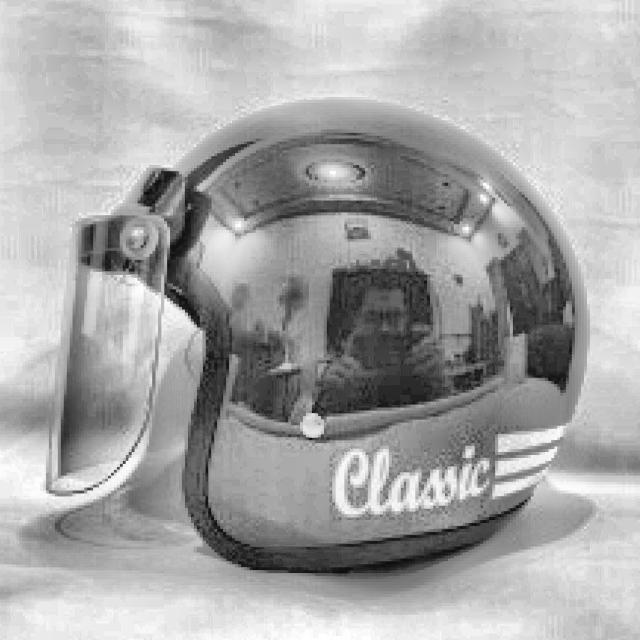Helmet: (54, 90, 599, 588)
